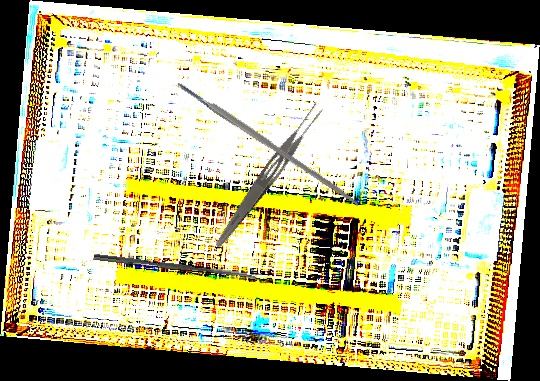Dressing Forceps: (211, 99, 328, 254)
Scalpel Handle: (176, 79, 361, 208)
Surgical Spoon: (93, 253, 262, 282)
